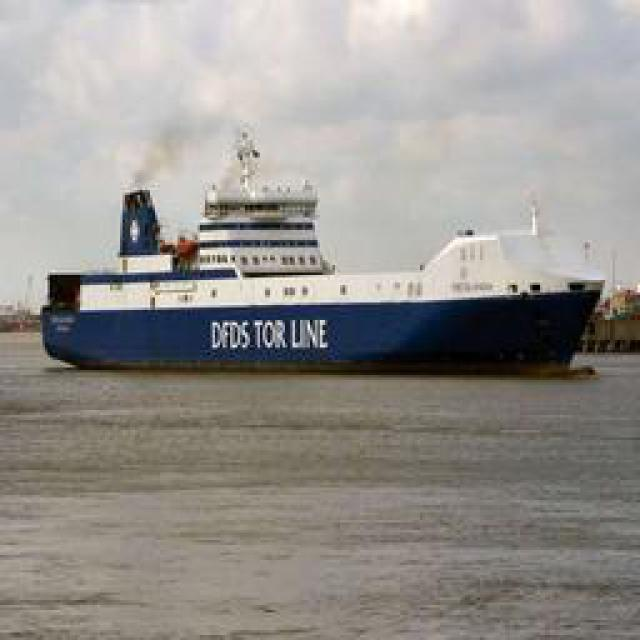Ship: (37, 132, 610, 375)
